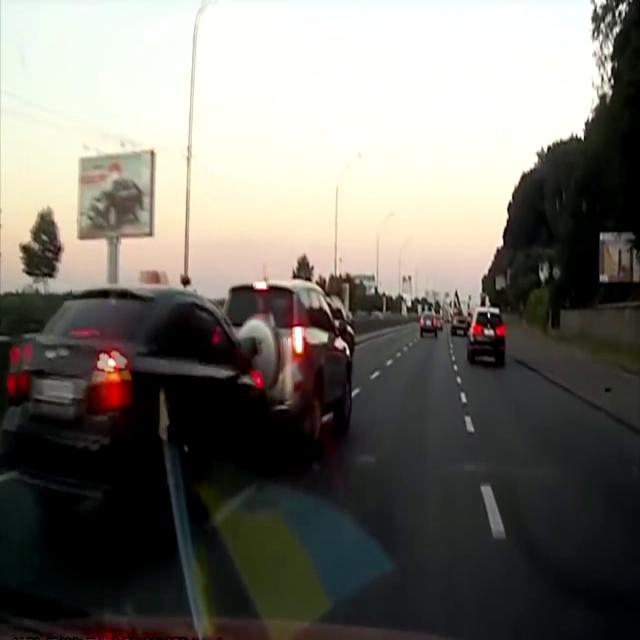multiple_accident: (53, 234, 376, 510)
normal: (409, 287, 549, 429)
